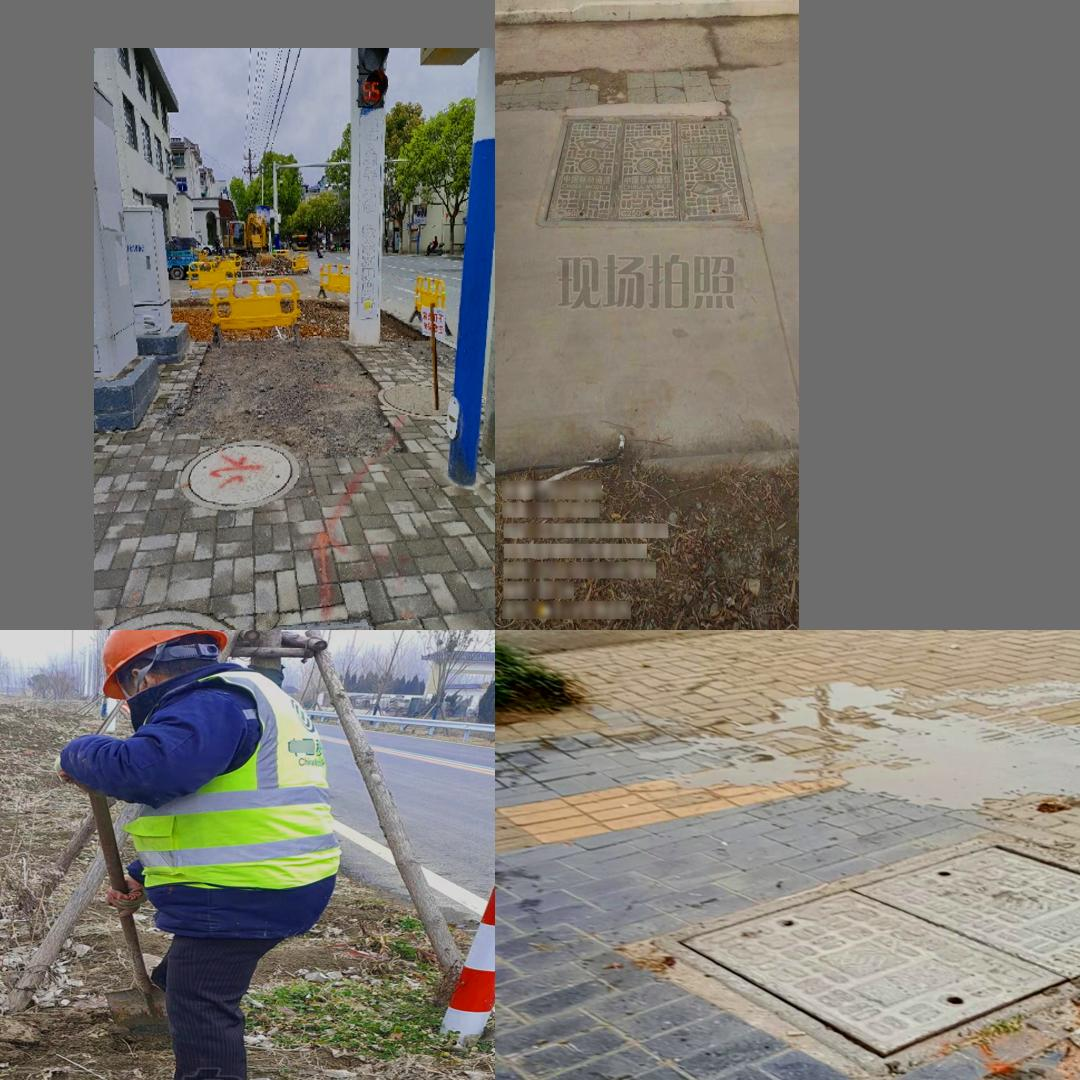good: (650, 831, 1080, 1075), (534, 113, 756, 228), (177, 439, 297, 507), (378, 383, 453, 416)
